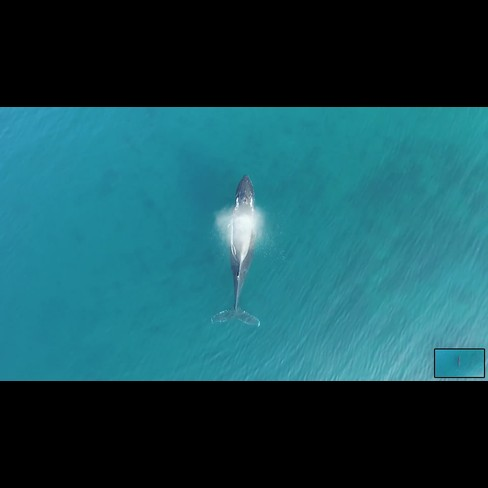hump: (204, 168, 275, 335)
